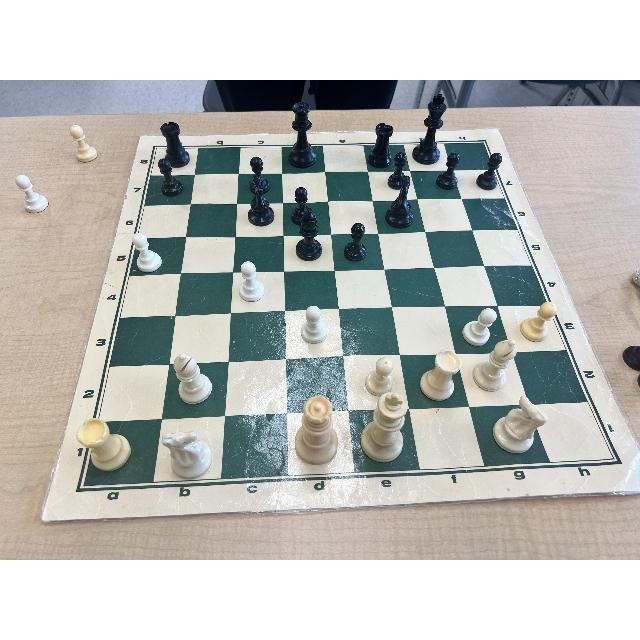black-bishop: (293, 205, 324, 261)
black-king: (410, 87, 447, 163)
black-knight: (242, 173, 277, 229), (386, 175, 417, 233)
black-pawn: (151, 155, 191, 202), (342, 218, 371, 264), (240, 153, 271, 195), (434, 151, 465, 193), (477, 148, 505, 194), (288, 183, 313, 225), (387, 149, 408, 188)
black-queen: (282, 95, 317, 168)
black-rook: (158, 115, 190, 169), (366, 115, 395, 166)
white-bishop: (167, 350, 215, 404), (473, 337, 519, 392)
white-king: (357, 390, 411, 468)
white-knight: (493, 389, 549, 455), (155, 421, 215, 480)
white-pawn: (515, 297, 560, 344), (296, 298, 336, 348), (461, 303, 499, 349), (233, 256, 267, 307), (128, 232, 168, 274), (362, 353, 398, 397)
white-queen: (289, 392, 343, 467)
white-rook: (75, 410, 134, 474), (419, 348, 465, 404)
